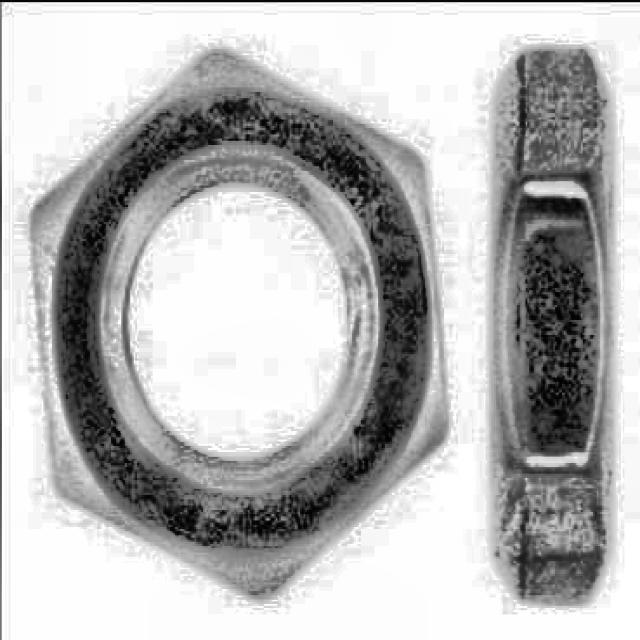Nut Detection - v1 Nut Dataset: (23, 34, 470, 612), (477, 41, 630, 616)
